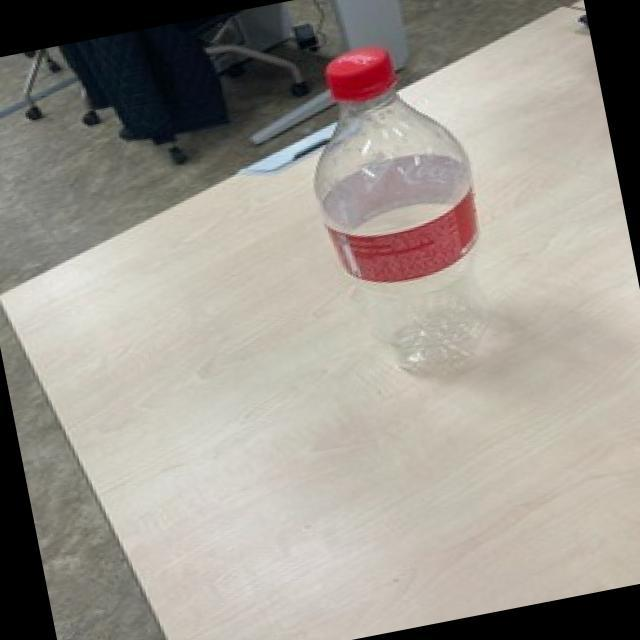good: (282, 22, 514, 406)
